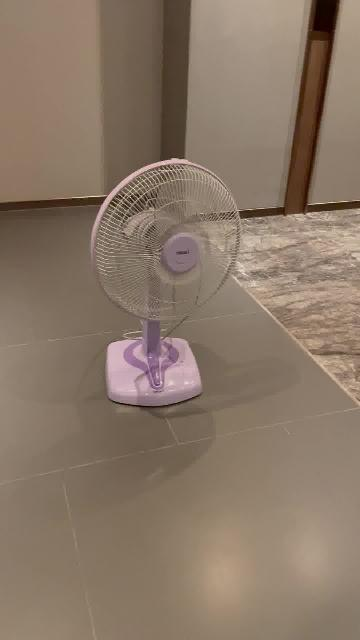Fan: (91, 158, 241, 408)
